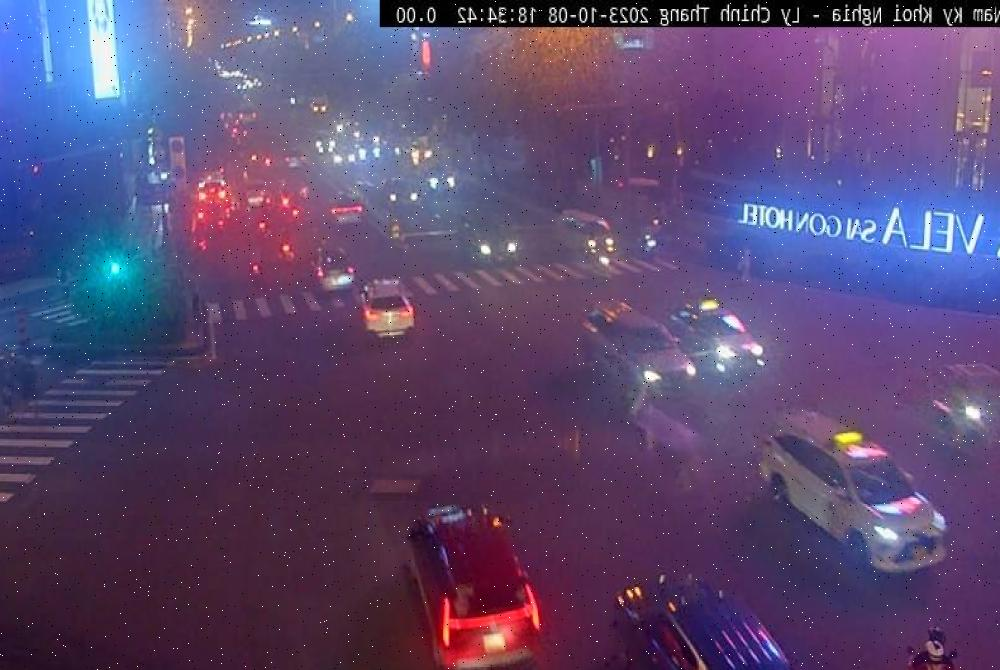car: (759, 406, 947, 578), (408, 501, 544, 670), (608, 561, 798, 670)
